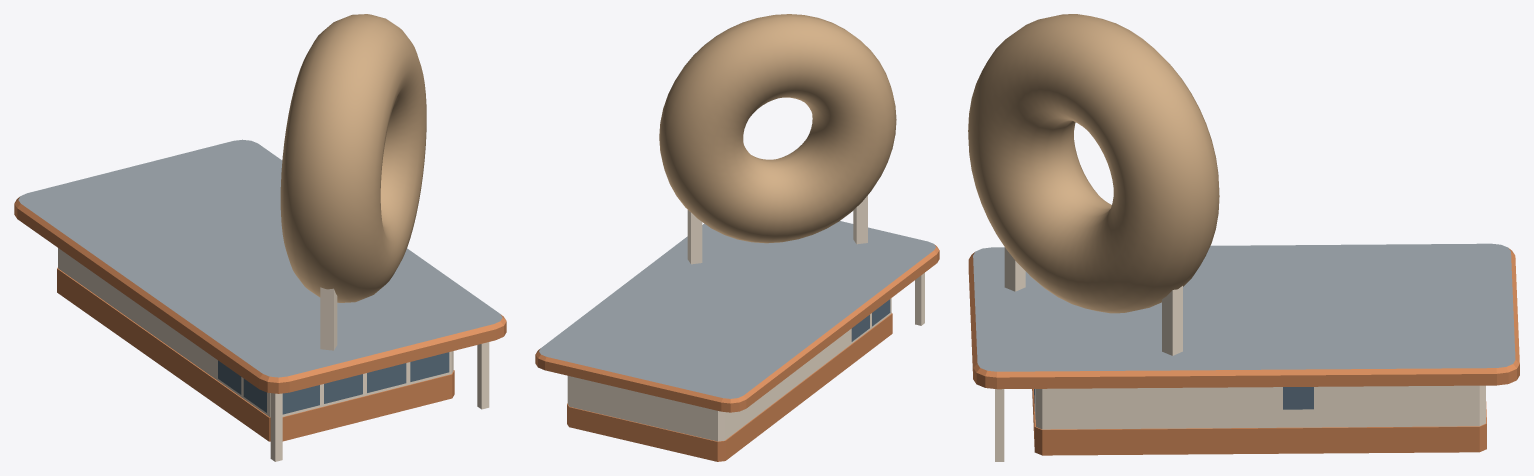
The model's file is detail.glb.
3 views of the same model, side by side, from view 1: azimuth 30°, elevation 25°; view 2: azimuth 150°, elevation 25°; view 3: azimuth 270°, elevation 25° (orthographic). The views are drawn at different scales.
Parts seen in each view (by area): view 1: randys-donuts; view 2: randys-donuts; view 3: randys-donuts.
Boxes of the visible parts, x1,y1,x2,y2 form: randys-donuts: (14,14,506,461); randys-donuts: (535,14,939,461); randys-donuts: (968,14,1519,461).
Size of the model in its own units: 9.98 by 13.85 by 17.66.
